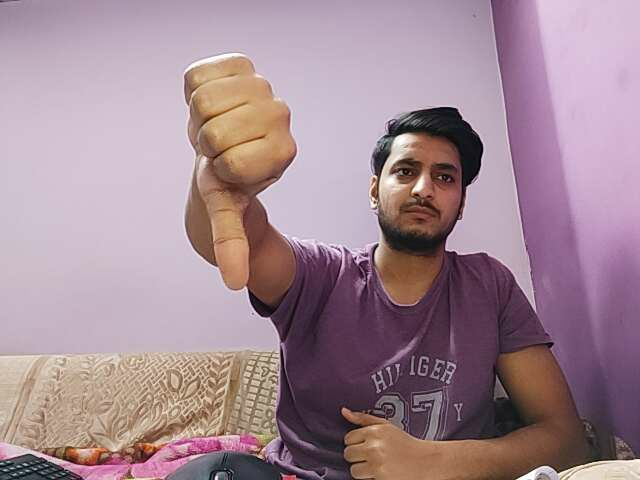ThumbsDown: (161, 48, 297, 300)
